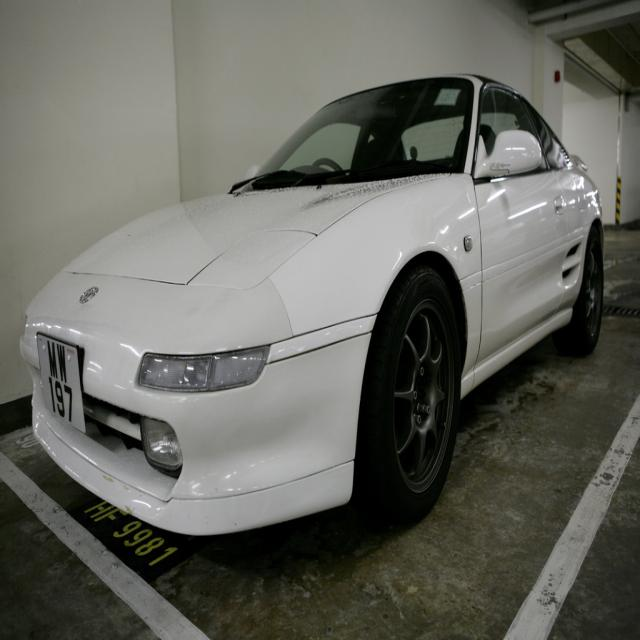car: (25, 66, 610, 548)
